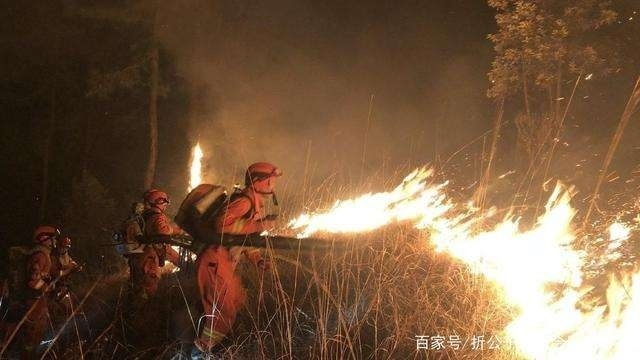fire: (301, 160, 639, 360), (186, 141, 206, 192)
